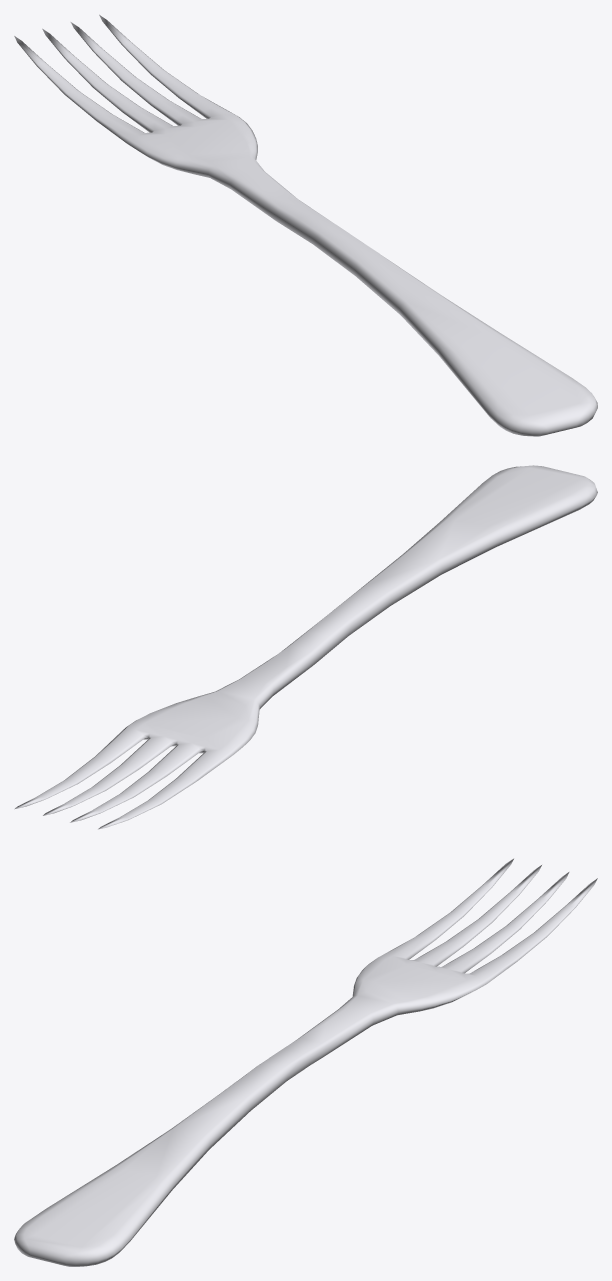
The model's file is Dining_Fork.fbx.
The picture shows the model from 3 angles, top to bottom: view 1: azimuth 30°, elevation 25°; view 2: azimuth 150°, elevation 25°; view 3: azimuth 330°, elevation 25°; orthographic projection. The views are drawn at different scales.
Visible parts, largest first — view 1: Fork_LOD_0; view 2: Fork_LOD_0; view 3: Fork_LOD_0.
Part boxes in pixels (<box>): Fork_LOD_0: <box>14,14,597,436</box>; Fork_LOD_0: <box>14,465,597,829</box>; Fork_LOD_0: <box>14,858,597,1266</box>.
Size of what is drawn, in the model's own units: 2.31 by 0.6683 by 18.47.
